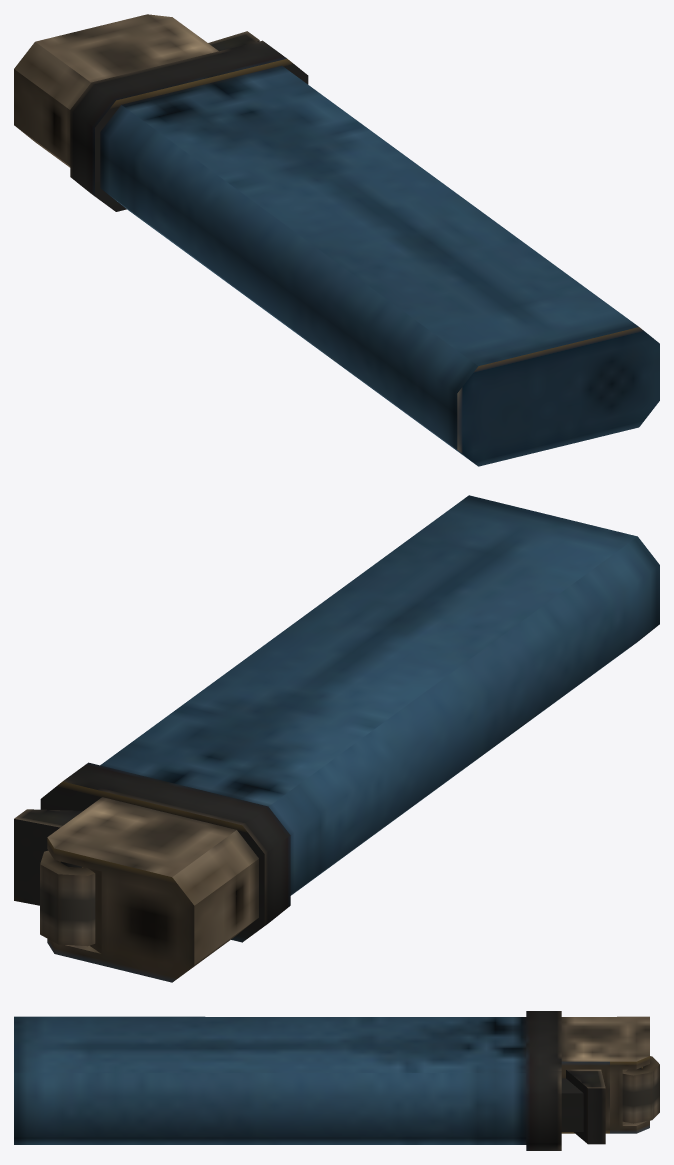
Rendered from lighter_mp_1_1.fbx.
3 renders of one model, top to bottom at view 1: azimuth 30°, elevation 25°; view 2: azimuth 150°, elevation 25°; view 3: azimuth 270°, elevation 25°, orthographic. The views are drawn at different scales.
Parts seen in each view (by area): view 1: lighter_mp_1_1; view 2: lighter_mp_1_1; view 3: lighter_mp_1_1.
Boxes of the visible parts, left/top/right/bottom form: lighter_mp_1_1: left=14, top=14, right=659, bottom=466; lighter_mp_1_1: left=14, top=495, right=659, bottom=982; lighter_mp_1_1: left=14, top=1011, right=659, bottom=1150.
Bounding box in the file's own units: 0.04 × 0.02 × 0.1463.
Materials: 1 (1 with a texture image).
